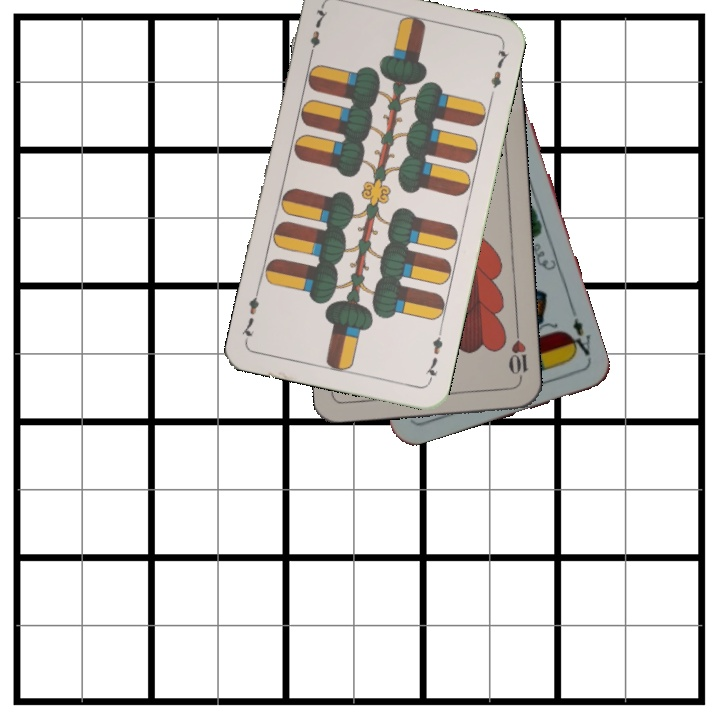E7: (421, 326, 446, 385), (305, 3, 330, 62)
EA: (562, 313, 594, 364)
H10: (504, 325, 530, 385)
